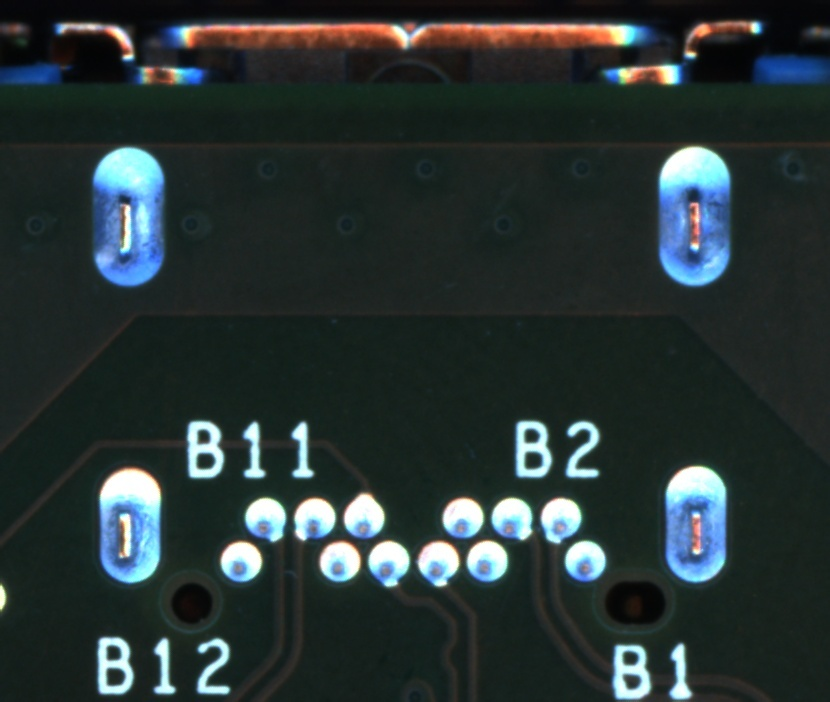SOLDER: (438, 494, 485, 541), (291, 496, 338, 543), (341, 492, 388, 539), (538, 496, 585, 543), (364, 540, 411, 587), (415, 541, 462, 588), (561, 539, 608, 586), (241, 495, 287, 542), (488, 494, 534, 541), (218, 538, 264, 585), (317, 539, 363, 586), (464, 538, 510, 585)
SOLDER2: (82, 140, 174, 296), (648, 140, 740, 296), (86, 448, 178, 604), (651, 441, 743, 596)
